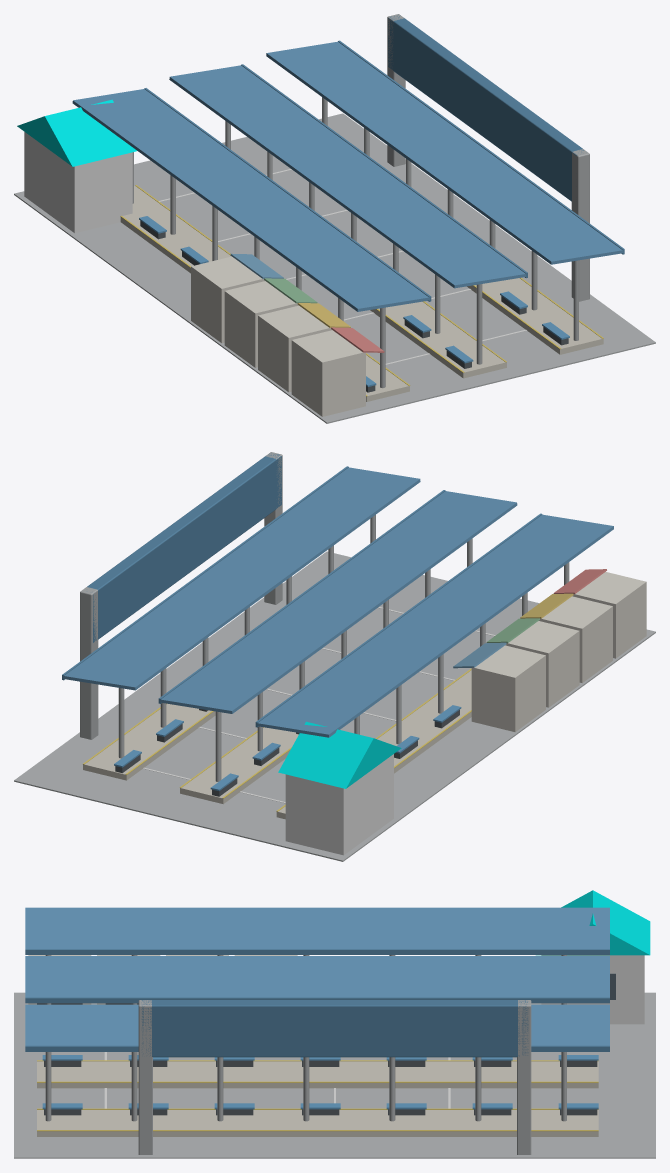
Rendered from lm_terminal.glb.
The picture shows the model from 3 angles, top to bottom: view 1: azimuth 30°, elevation 25°; view 2: azimuth 150°, elevation 25°; view 3: azimuth 270°, elevation 25°; orthographic projection. The views are drawn at different scales.
Parts seen in each view (by area): view 1: main; view 2: main; view 3: main.
Boxes of the visible parts, <box> form: main: <box>14,14,655,423</box>; main: <box>14,452,655,861</box>; main: <box>14,890,655,1158</box>.
Size of the model in its own units: 13.6 by 5.8 by 22.4.
